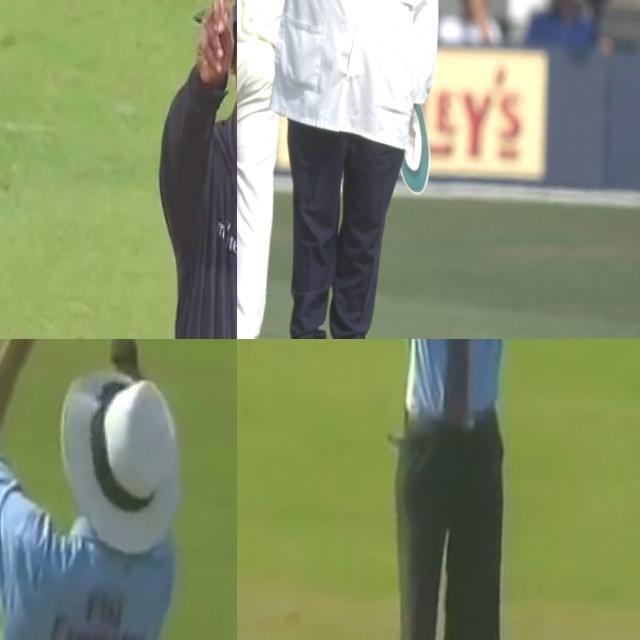Out: (237, 0, 465, 339), (97, 0, 237, 339)
Six: (341, 339, 572, 640), (0, 339, 208, 640)
